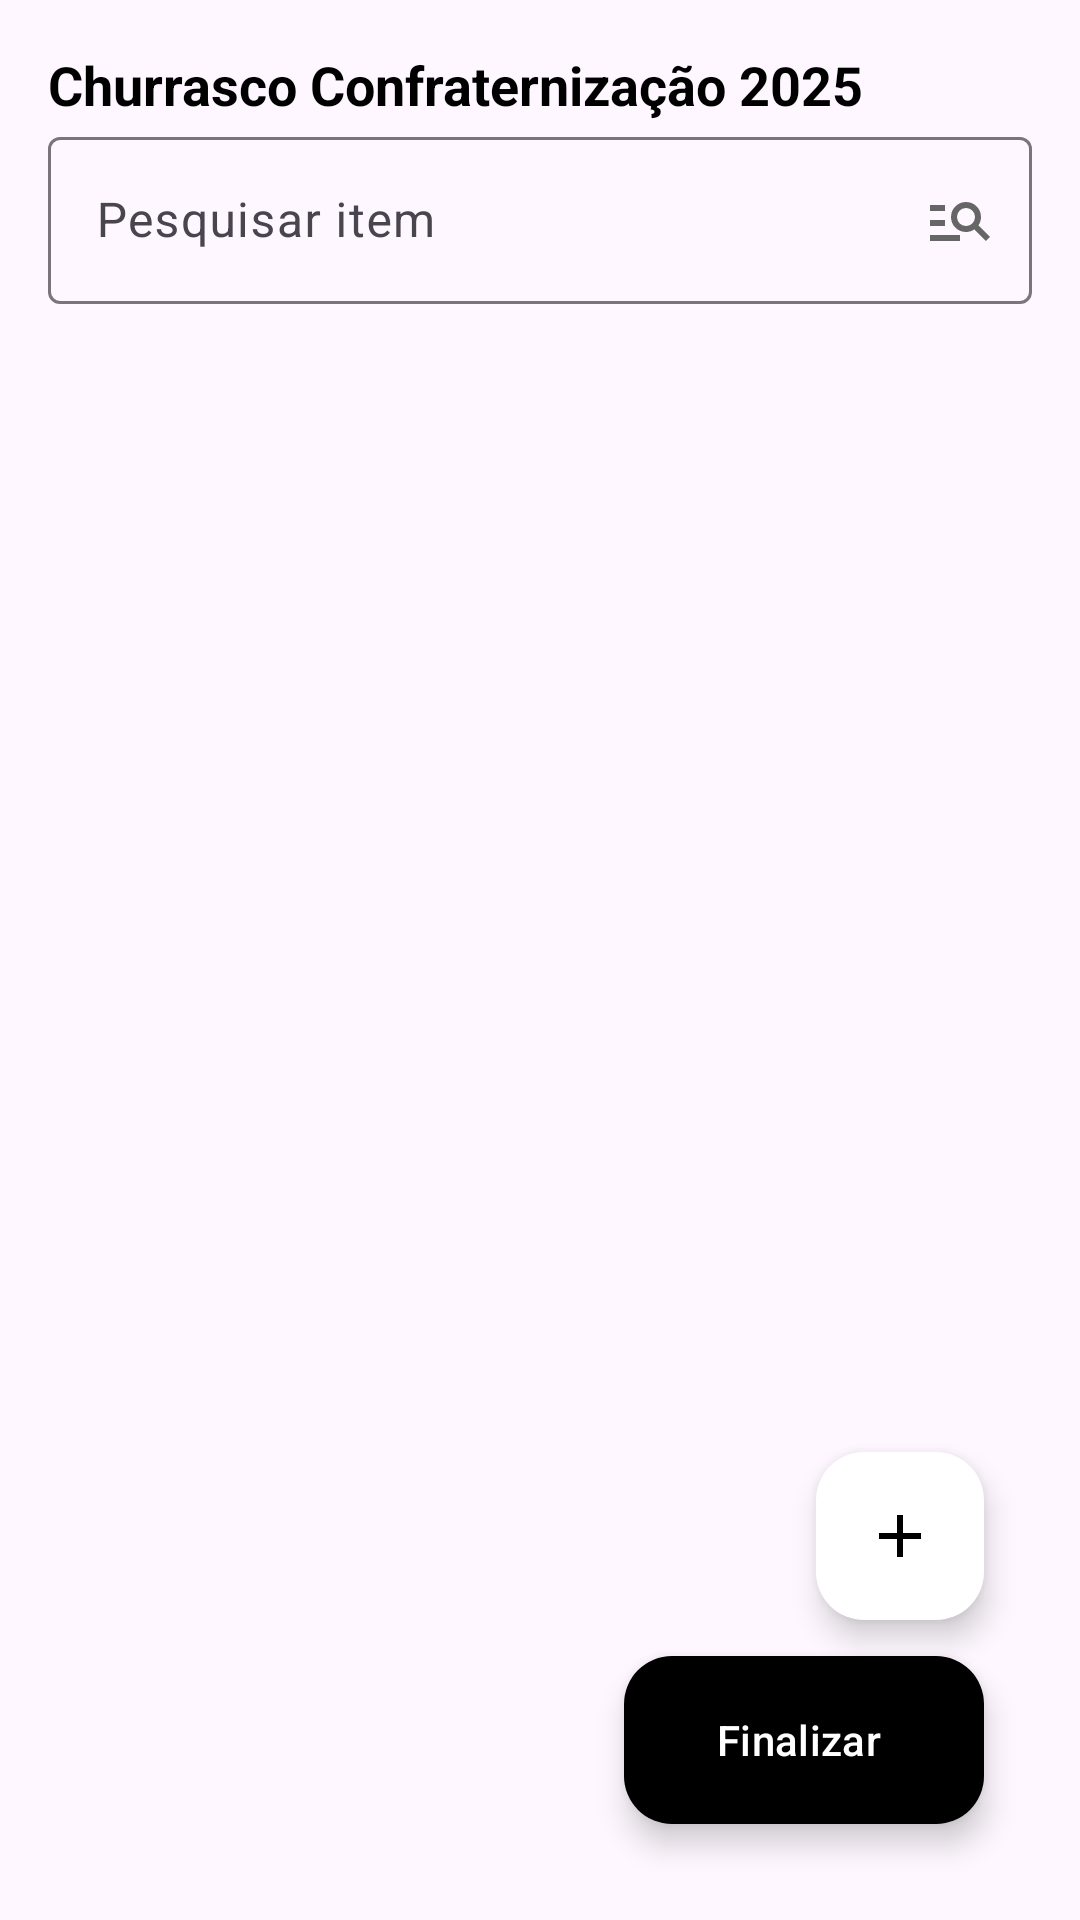

Where to tap for icons on this 1080w x 1920h app screen, as point (x, y):
Adicionar Item: point (900, 1536)
